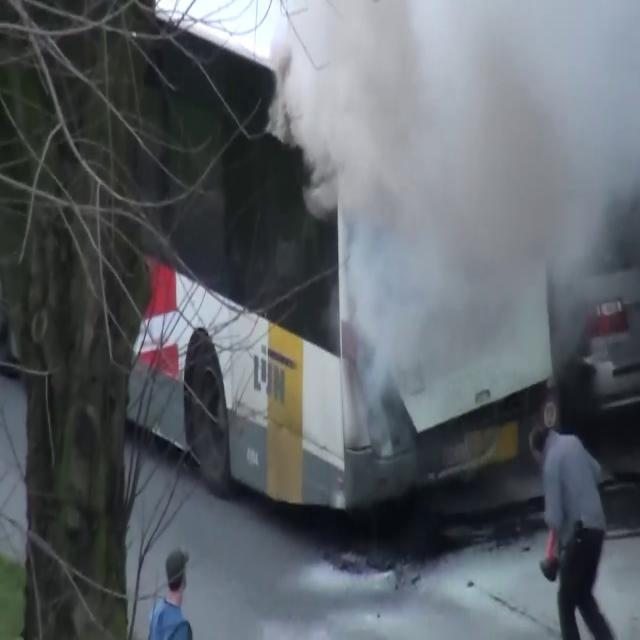Smoke: (257, 0, 640, 393)
